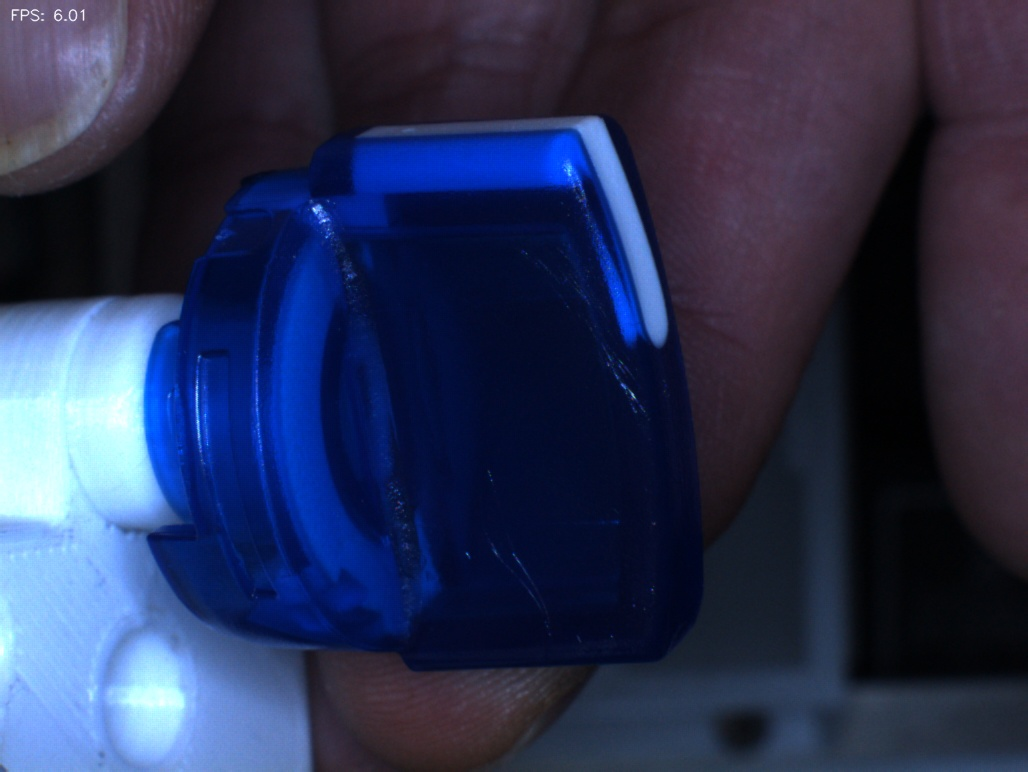Givrage: (452, 461, 567, 647), (504, 229, 606, 338), (575, 346, 659, 447)
